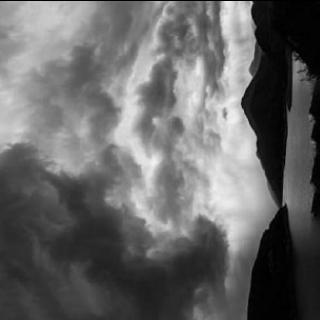Nimbostratus: (1, 0, 272, 320)
